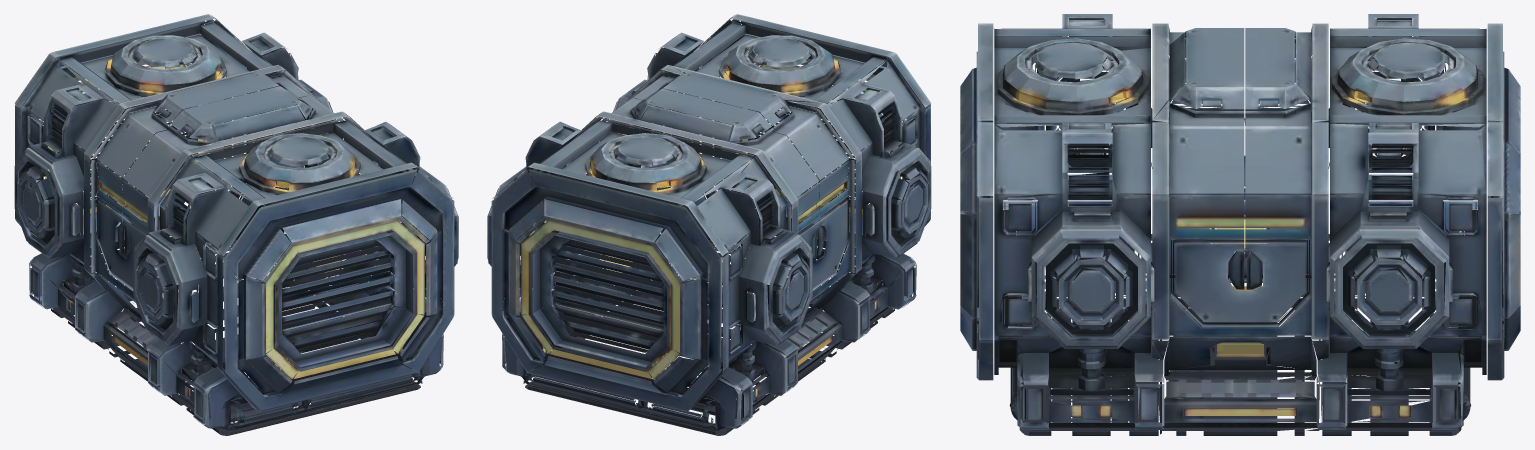
The model's file is supply_cache_LOD1.glb.
3 renders of one model, left to right at view 1: azimuth 30°, elevation 25°; view 2: azimuth 150°, elevation 25°; view 3: azimuth 270°, elevation 25°, orthographic. The views are drawn at different scales.
Parts seen in each view (by area): view 1: supply_cache_LOD1; view 2: supply_cache_LOD1; view 3: supply_cache_LOD1.
Part boxes in pixels (x1,y1,x2,y2): supply_cache_LOD1: [14, 14, 458, 435]; supply_cache_LOD1: [487, 14, 931, 435]; supply_cache_LOD1: [960, 14, 1520, 435].
Size of the model in its own units: 0.7572 by 0.6202 by 0.9998.
1 material, 1 textured.
